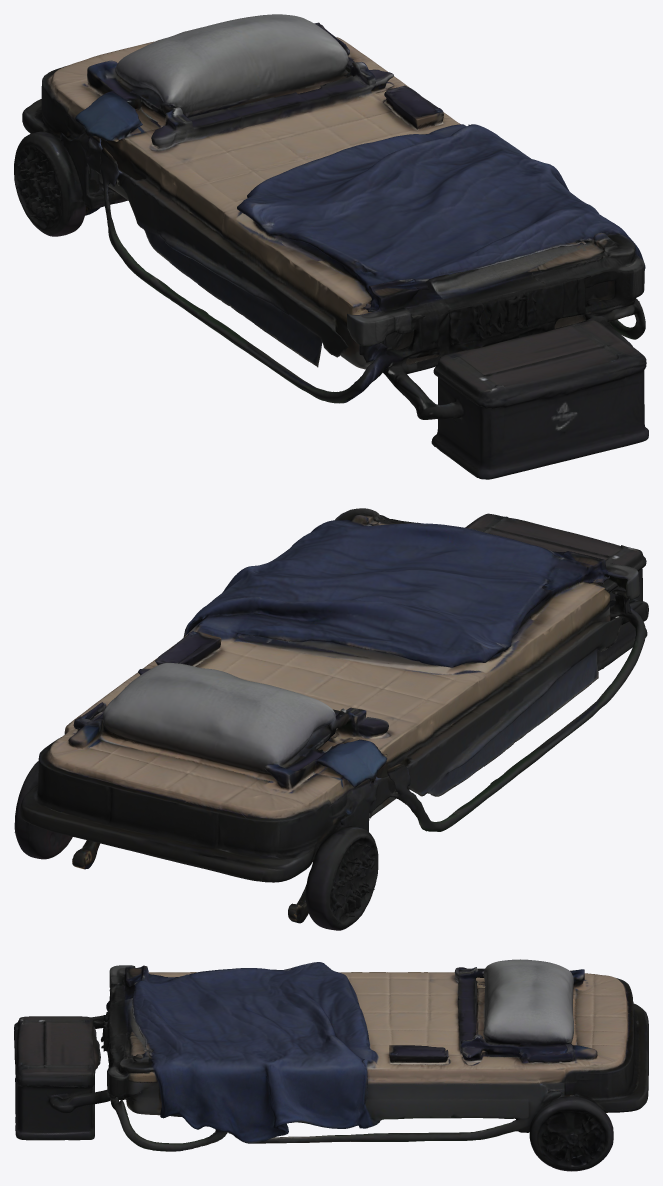
The model's file is SpaceBed.glb.
3 views of the same model, one above another, from view 1: azimuth 30°, elevation 25°; view 2: azimuth 150°, elevation 25°; view 3: azimuth 270°, elevation 25° (orthographic). The views are drawn at different scales.
Size of the model in its own units: 0.9511 by 0.4774 by 1.99.
Materials: 1 (1 with a texture image).
